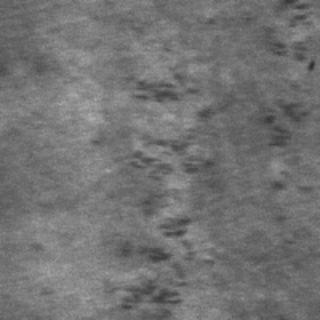rolled pit: (110, 70, 214, 318), (261, 74, 305, 208), (253, 0, 317, 68)
